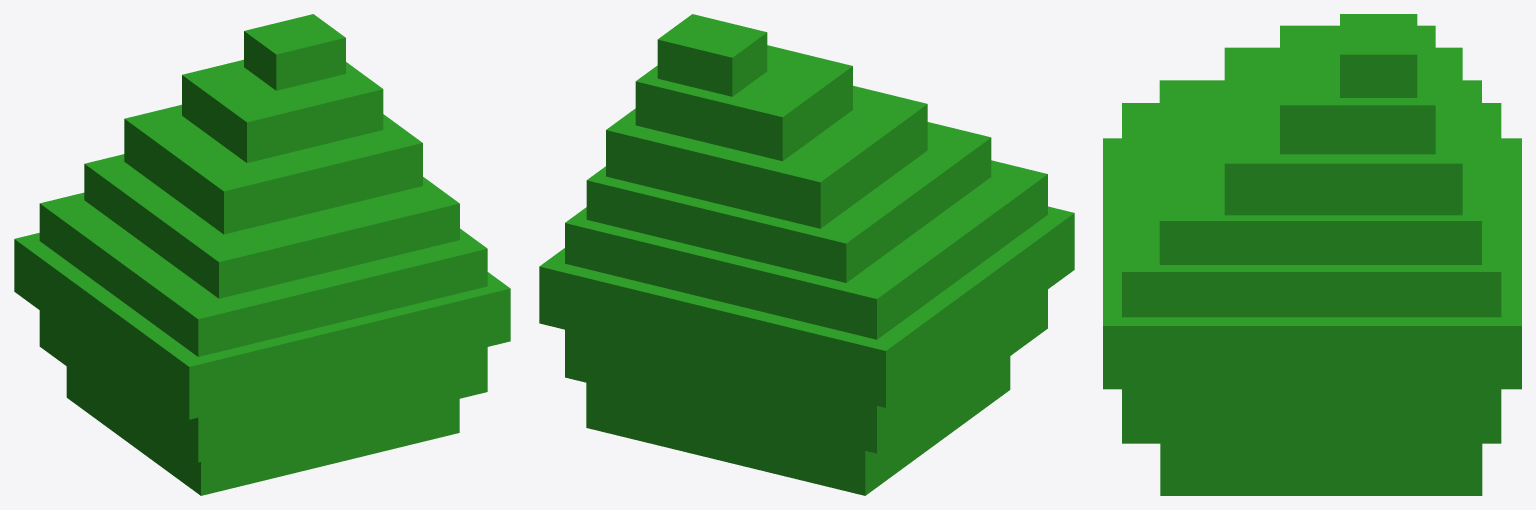
File: 초록색 물방울 2.fbx
The picture shows the model from 3 angles, left to right: view 1: azimuth 30°, elevation 25°; view 2: azimuth 150°, elevation 25°; view 3: azimuth 270°, elevation 25°; orthographic projection. The views are drawn at different scales.
Parts seen in each view (by area): view 1: Box005; view 2: Box005; view 3: Box005.
Boxes of the visible parts, <box> form: Box005: <box>14,14,510,495</box>; Box005: <box>539,14,1074,495</box>; Box005: <box>1103,14,1521,495</box>.
Bounding box in the file's own units: 34.51 × 35.9 × 32.55.
1 material, 1 textured.
